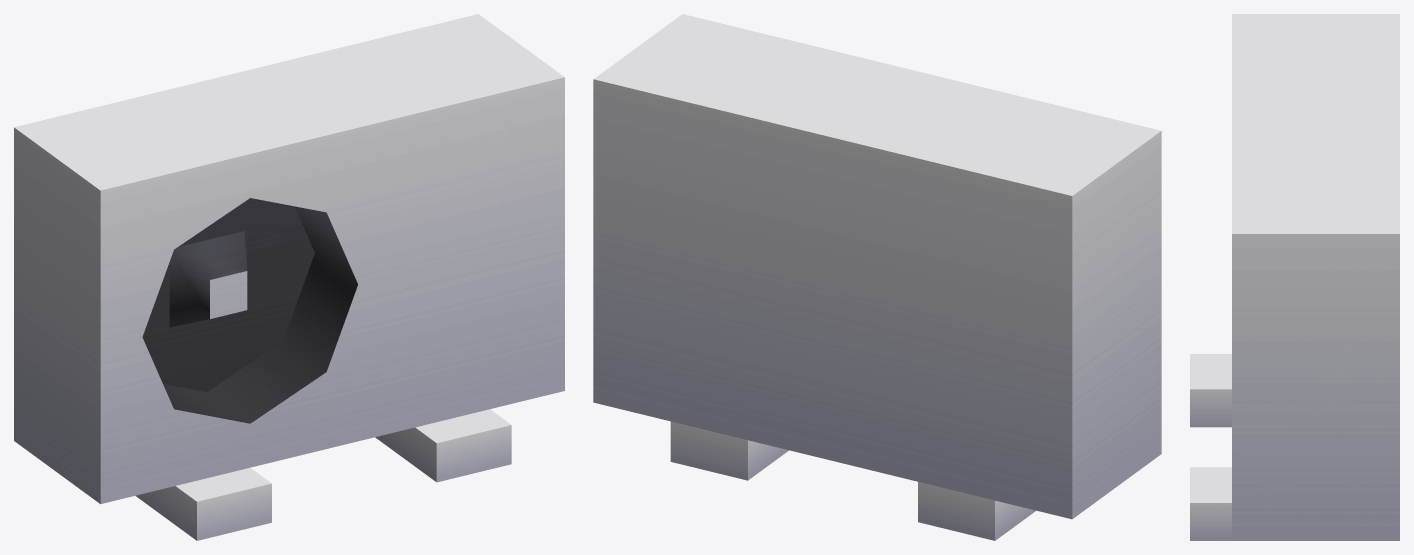
Rendered from detail_ac_b.glb.
3 renders of one model, left to right at view 1: azimuth 30°, elevation 25°; view 2: azimuth 150°, elevation 25°; view 3: azimuth 270°, elevation 25°, orthographic. The views are drawn at different scales.
Parts seen in each view (by area): view 1: detail-ac-b; view 2: detail-ac-b; view 3: detail-ac-b.
Boxes of the visible parts, left/top/right/bottom form: detail-ac-b: left=14, top=14, right=564, bottom=540; detail-ac-b: left=593, top=14, right=1161, bottom=540; detail-ac-b: left=1190, top=14, right=1399, bottom=540.
Size of the model in its own units: 0.31 by 0.225 by 0.125.
1 material, 1 textured.
